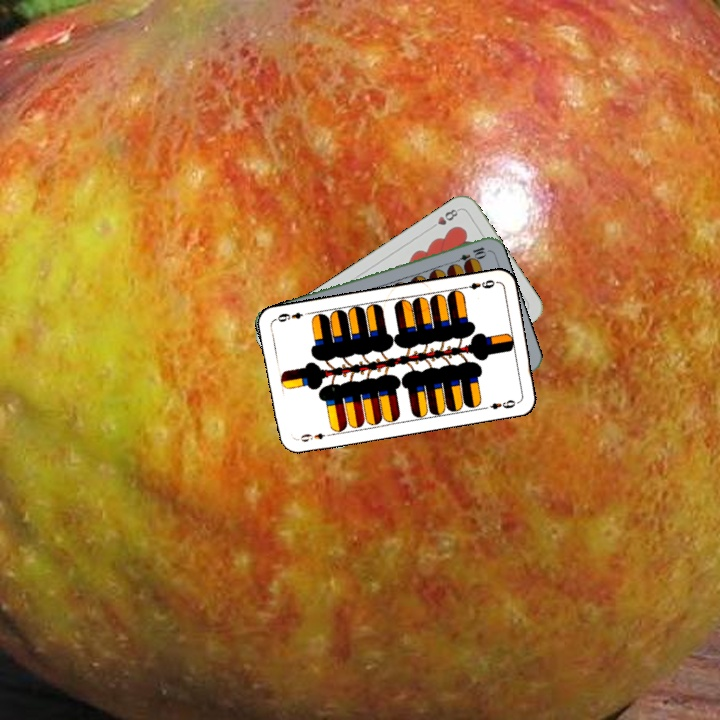E10: (449, 243, 489, 267)
E9: (293, 429, 334, 445), (459, 275, 497, 292)
H8: (426, 205, 462, 232)
